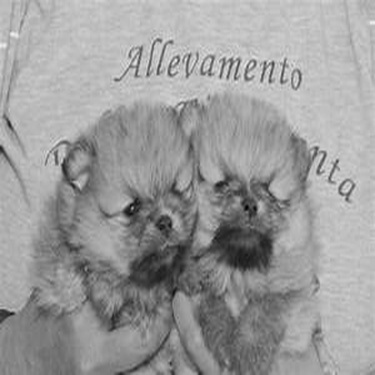dog: (16, 79, 203, 374), (162, 79, 335, 374)
